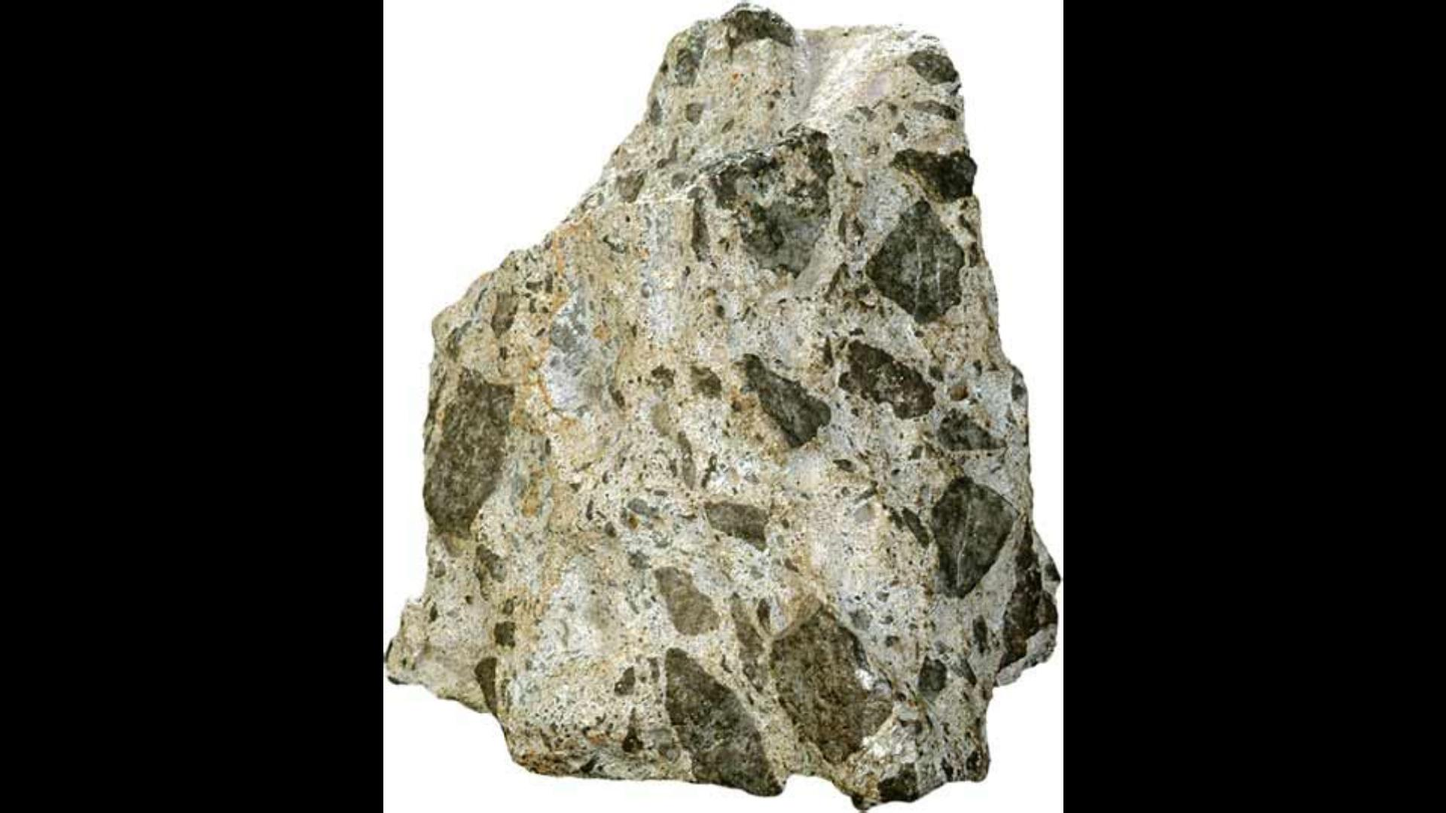rock: (387, 5, 1055, 805)
